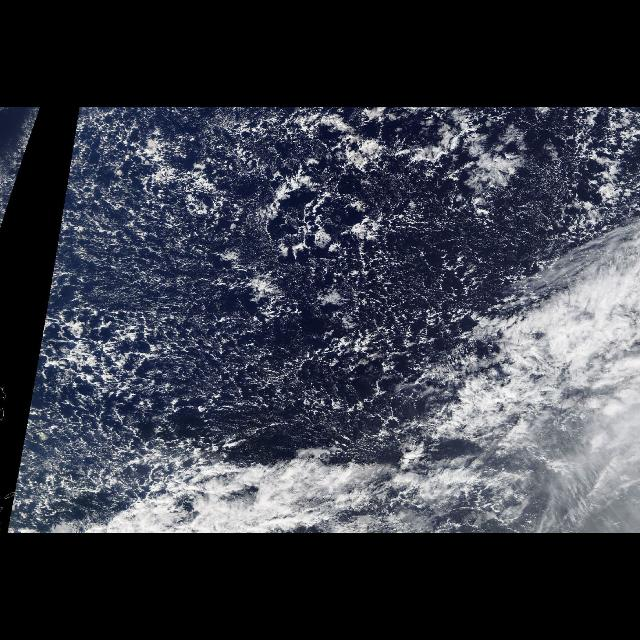Gravel: (25, 108, 468, 496), (550, 108, 640, 226), (25, 107, 41, 153)
